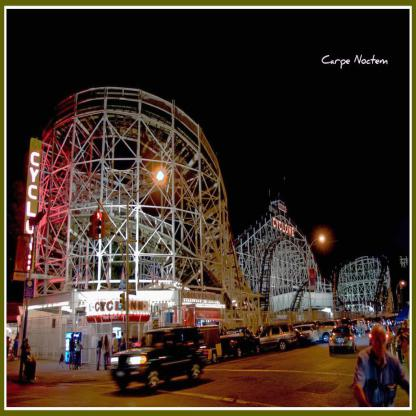Car: (108, 316, 392, 392)
